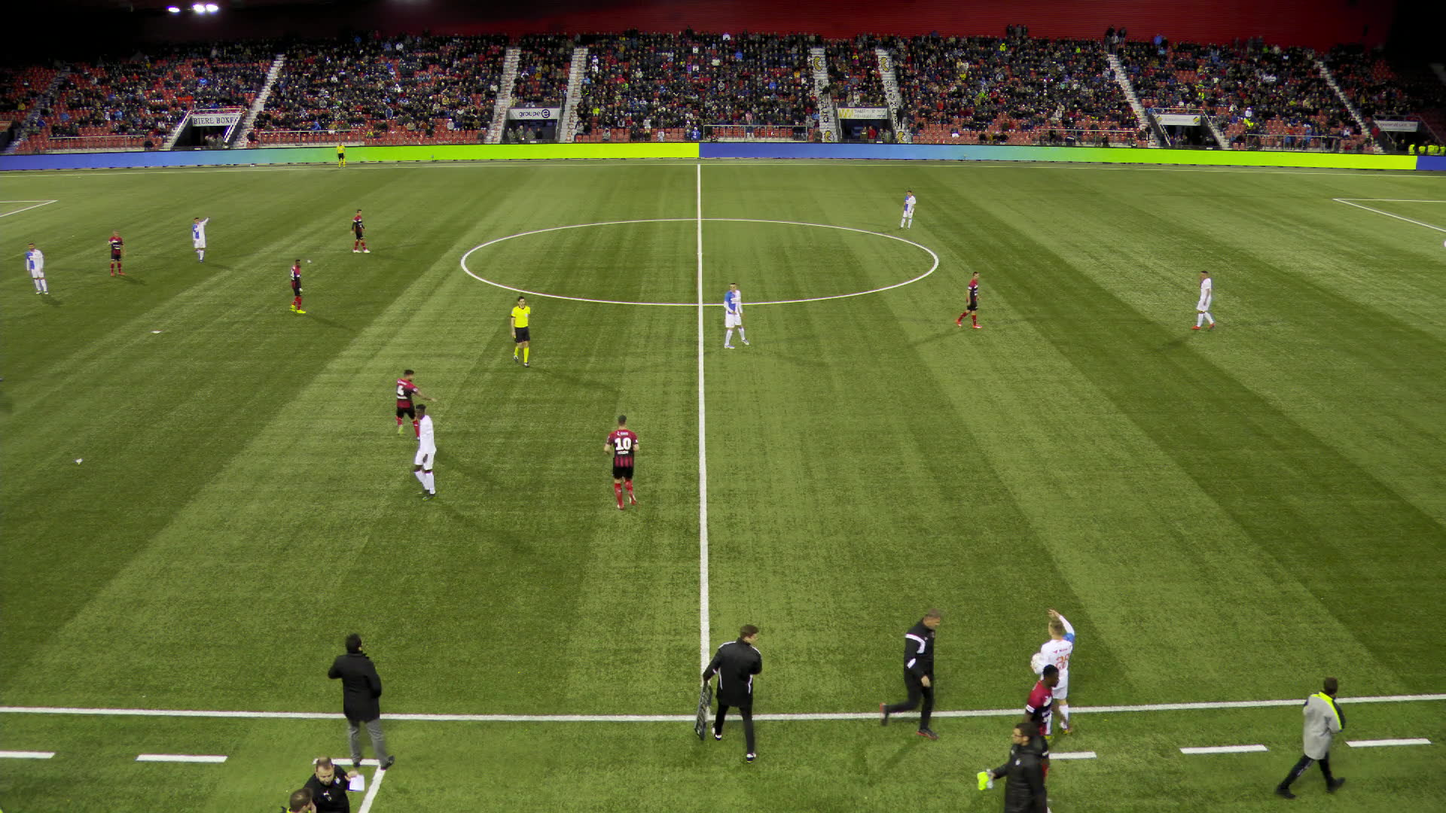ball: (1031, 653, 1039, 664)
player: (1033, 609, 1073, 735), (607, 413, 640, 513), (412, 404, 443, 501), (395, 367, 423, 436), (722, 282, 744, 349), (1190, 270, 1213, 330), (956, 271, 980, 328), (288, 259, 308, 313), (26, 243, 47, 294), (191, 215, 209, 263), (106, 230, 124, 276), (351, 209, 368, 253), (897, 190, 915, 229), (0, 378, 2, 381)
referee: (511, 297, 531, 367), (336, 142, 345, 167)
